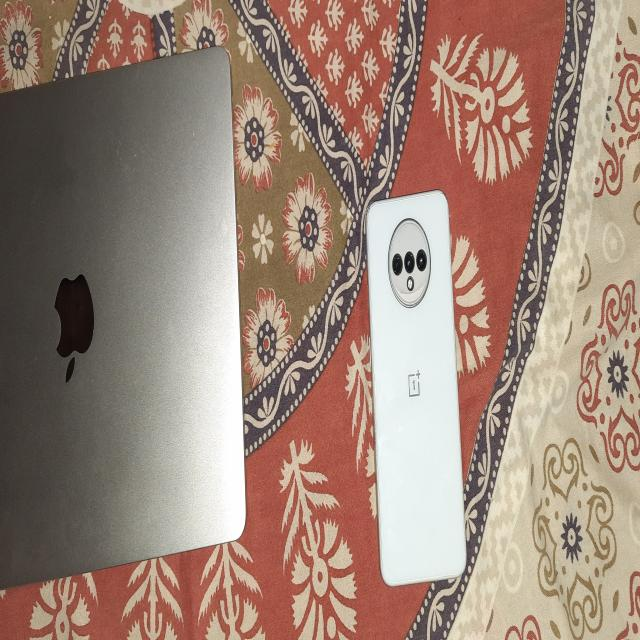Laptop-and-Mobile: (0, 40, 244, 562)
Mobile: (362, 188, 474, 604)
